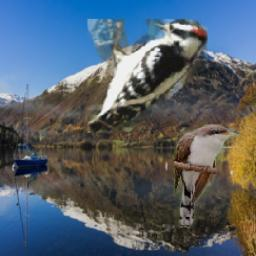Cuckoo: (173, 124, 239, 229)
Woodpecker: (87, 19, 208, 133)
